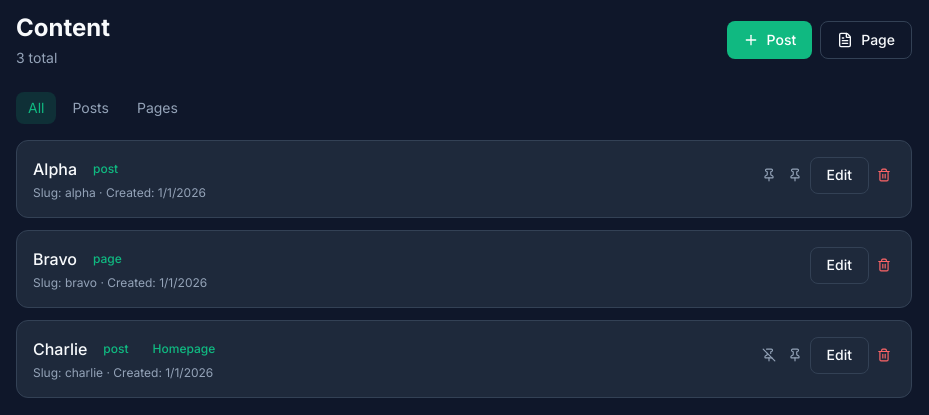
it: Content settings page › filtering › filters to pages when "Pages" tab clicked
The width and height of the screenshot is (929, 415).
Expected: the text "Alpha" is shown, x1=33 y1=157 x2=77 y2=181
Click the button "Pages".
click(157, 108)  # box x1=125 y1=92 x2=190 y2=124
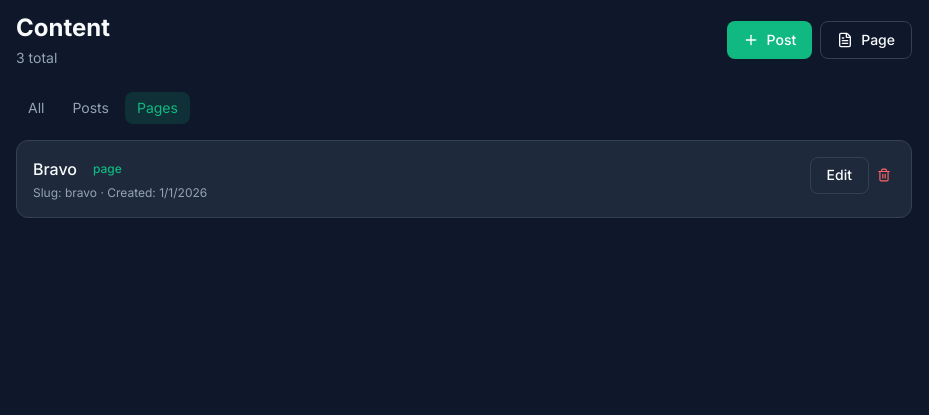
Expected: the text "Bravo" is shown, x1=33 y1=157 x2=77 y2=181
Now the text "Alpha" is gone
Now the text "Charlie" is gone
